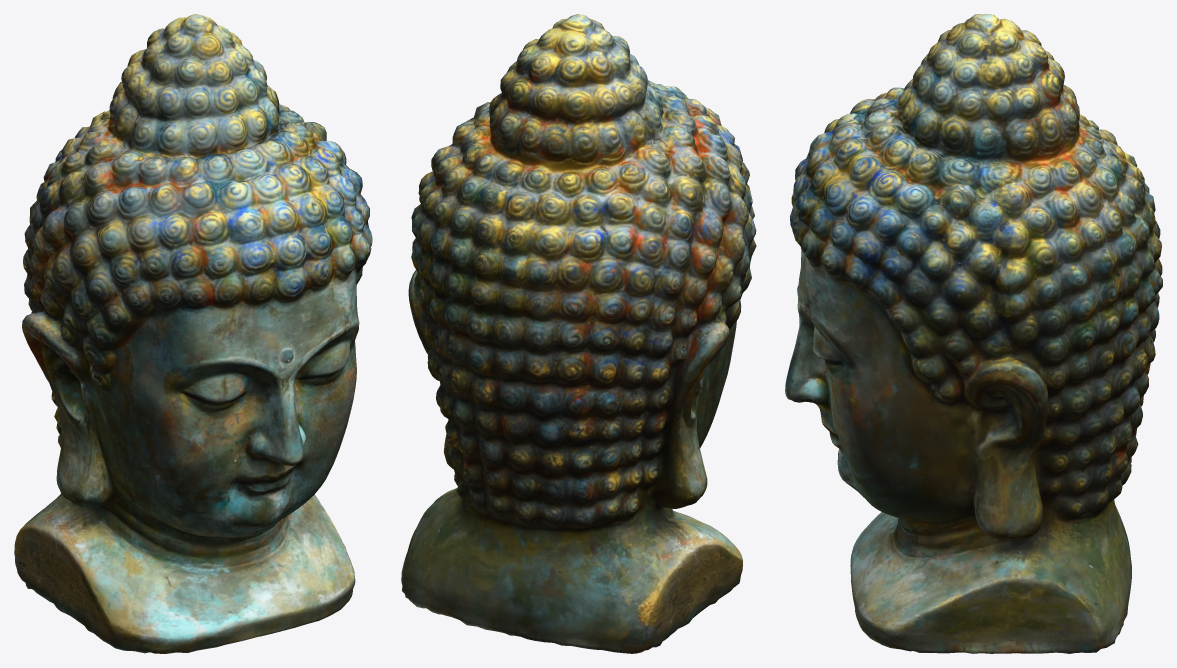
Rendered from sf-buddha-9f190a.glb.
The picture shows the model from 3 angles, left to right: view 1: azimuth 30°, elevation 25°; view 2: azimuth 150°, elevation 25°; view 3: azimuth 270°, elevation 25°; orthographic projection. The views are drawn at different scales.
Parts seen in each view (by area): view 1: Object_2; view 2: Object_2; view 3: Object_2.
Boxes of the visible parts, left/top/right/bottom form: Object_2: left=14, top=14, right=372, bottom=653; Object_2: left=401, top=14, right=756, bottom=653; Object_2: left=785, top=14, right=1162, bottom=653.
Size of the model in its own units: 1.16 by 2.07 by 1.22.
Materials: 1 (1 with a texture image).
